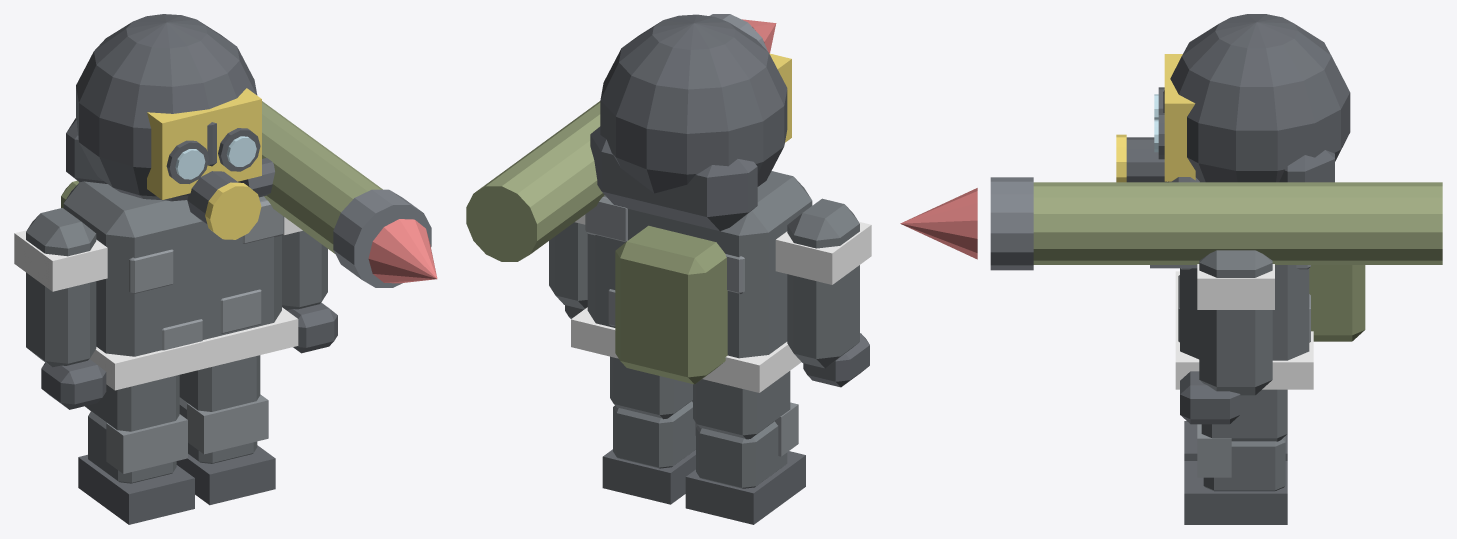
File: rocket@toxico.glb
The picture shows the model from 3 angles, left to right: view 1: azimuth 30°, elevation 25°; view 2: azimuth 150°, elevation 25°; view 3: azimuth 270°, elevation 25°; orthographic projection. The views are drawn at different scales.
Parts seen in each view (by area): view 1: main, shinl, shinr, legl, legr; view 2: main, shinl, shinr, legl, legr; view 3: main, shinr, legr.
Part boxes in pixels (bbox=[...]): main: bbox=[14, 14, 437, 409]; shinl: bbox=[78, 411, 194, 524]; shinr: bbox=[176, 394, 275, 505]; legl: bbox=[85, 375, 179, 431]; legr: bbox=[179, 355, 260, 411]; main: bbox=[466, 14, 871, 392]; shinl: bbox=[685, 402, 805, 524]; shinr: bbox=[602, 400, 697, 504]; legl: bbox=[693, 371, 790, 439]; legr: bbox=[610, 356, 692, 419]; main: bbox=[900, 14, 1442, 424]; shinr: bbox=[1184, 424, 1287, 524]; legr: bbox=[1201, 389, 1287, 441].
Size of the model in its own units: 0.391 by 0.5975 by 0.63.
